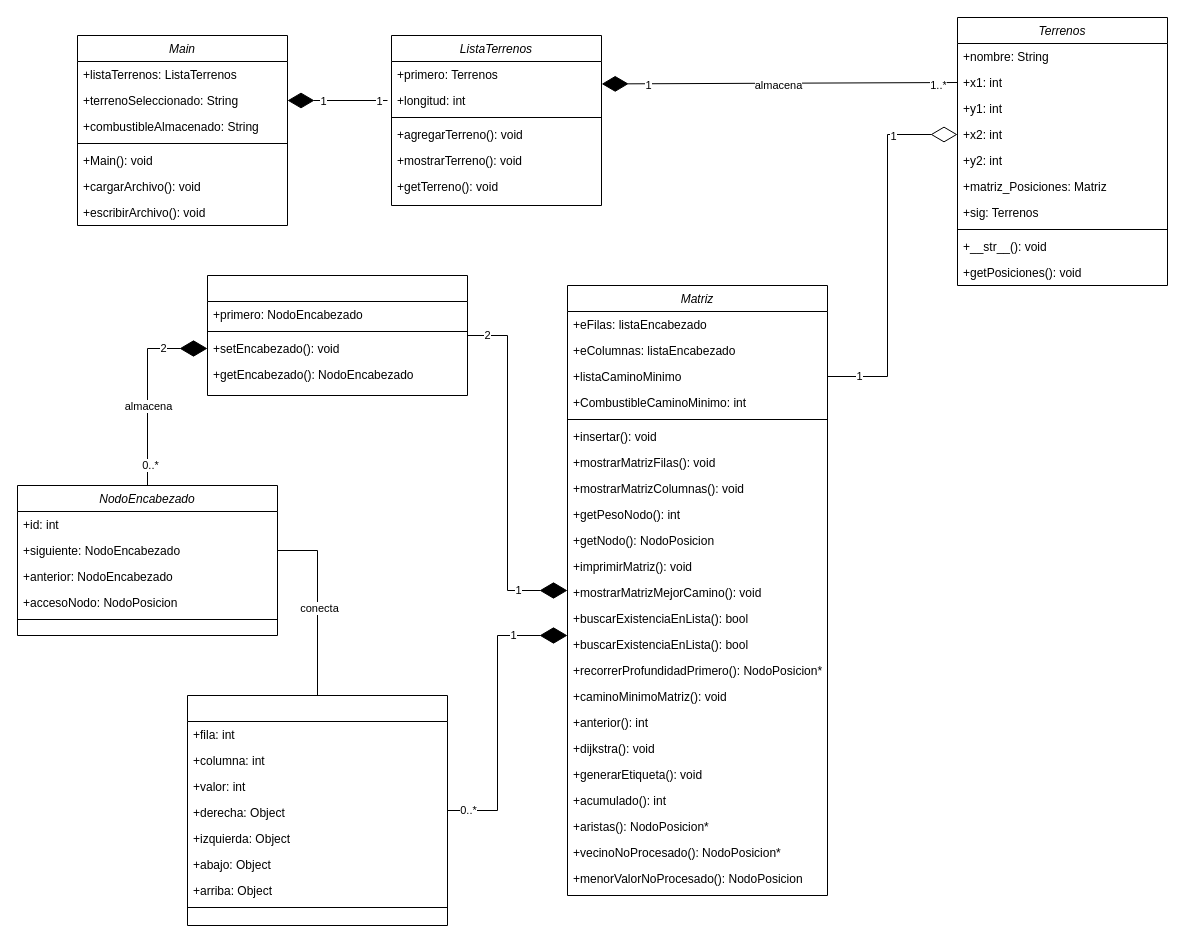
This 1185x943 diagram has some shape labels left out. The shapes that lost their labels are listed below. From the top down, each one's box as (x1, y1, x2, y2) in pixels, then its label:
(206, 274, 468, 396): ListaEncabezado
(186, 694, 448, 926): NodoPosicion
